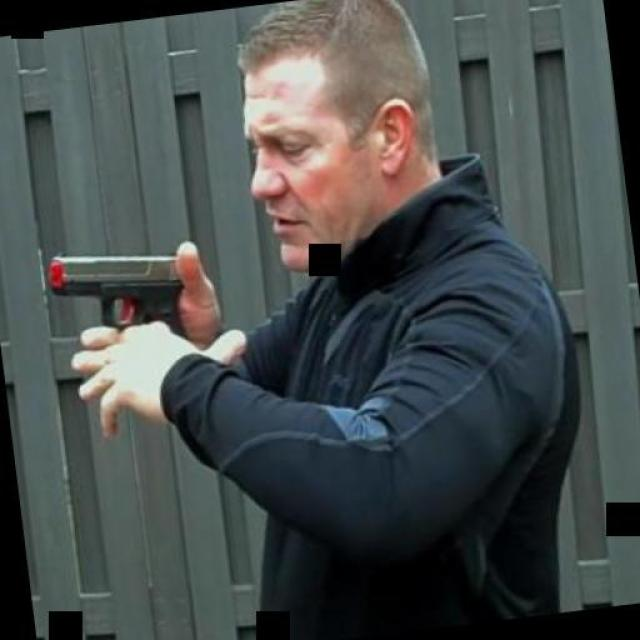gun: (39, 231, 210, 389)
